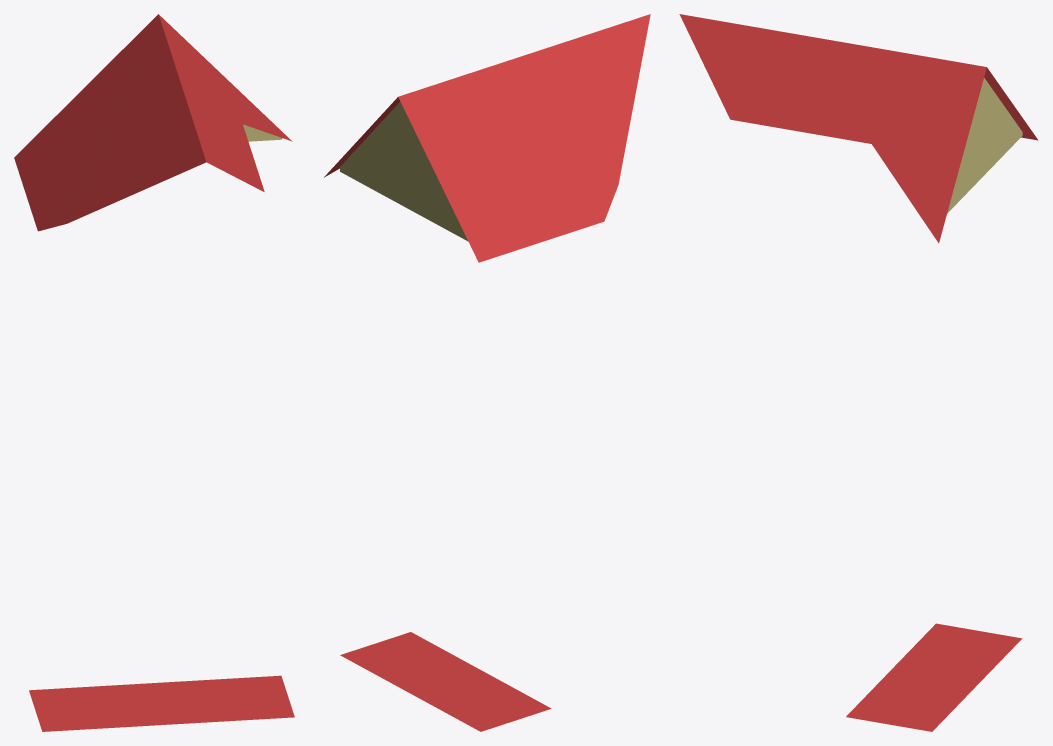
3 views of the same model, side by side, from view 1: azimuth 30°, elevation 25°; view 2: azimuth 150°, elevation 25°; view 3: azimuth 270°, elevation 25° (orthographic). The views are drawn at different scales.
Size of the model in its own units: 6.23 by 7.29 by 13.93.
